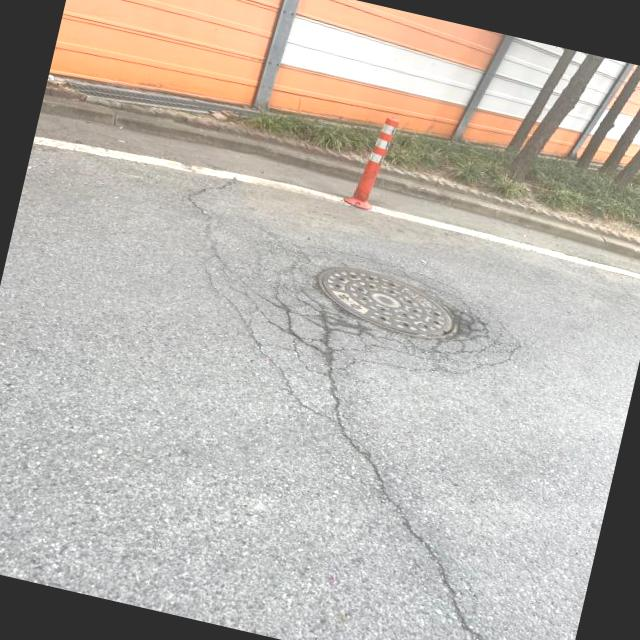manhole: (286, 248, 478, 356)
